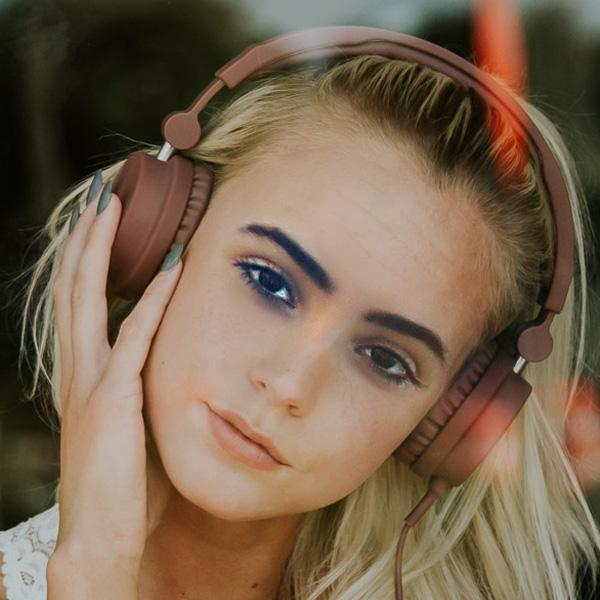Eyes: (226, 241, 305, 315), (348, 324, 422, 392)
